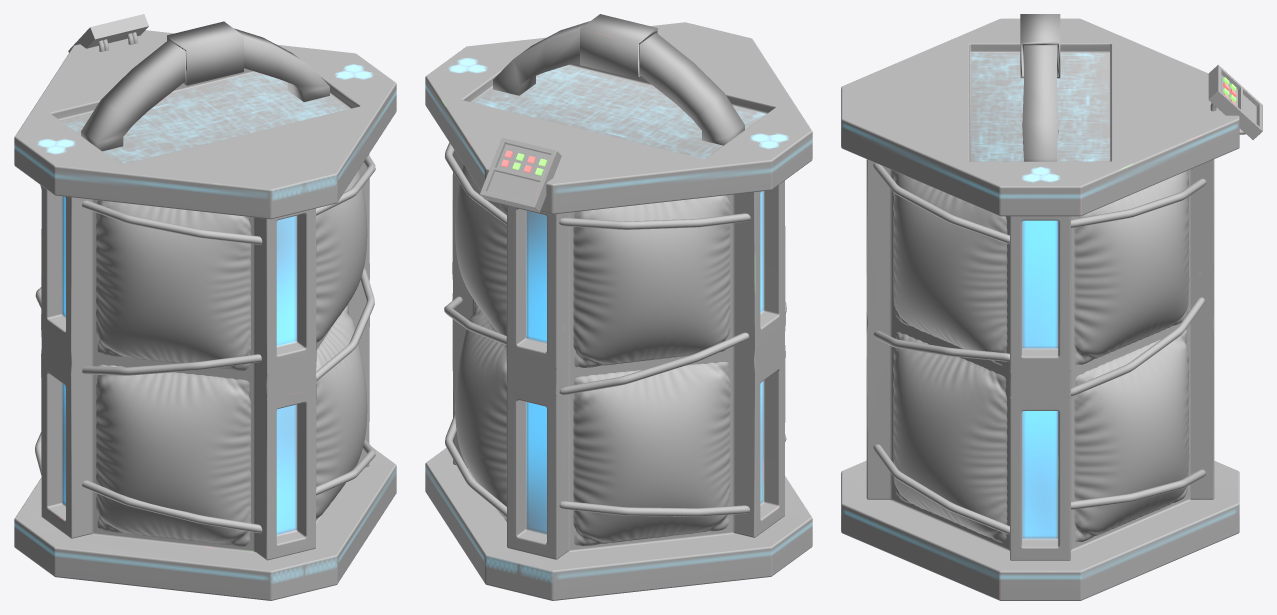
The model's file is Hard-surface box.fbx.
The picture shows the model from 3 angles, left to right: view 1: azimuth 30°, elevation 25°; view 2: azimuth 150°, elevation 25°; view 3: azimuth 270°, elevation 25°; orthographic projection.
Parts seen in each view (by area): view 1: Cube, Cloth_hp.001, Cloth_hp, Cloth_hp.003, Cloth_hp.002, Cube.001, Cube.003, Cube.002, Cube.014, Cube.005, Cube.006, Cube.004; view 2: Cube, Cloth_hp.007, Cloth_hp.006, Cloth_hp.005, Cloth_hp.004, Cube.014, Cube.011, Cube.010, Cube.012, Cube.009, Cube.007, Cube.008; view 3: Cube, Cloth_hp.003, Cloth_hp.005, Cloth_hp.004, Cloth_hp.002, Cube.014, Cube.008, Cube.006, Cube.004, Cube.007, Cube.009, Cube.005.
Part boxes in pixels (left/top/right/bottom): Cube: left=14, top=21, right=396, bottom=600; Cloth_hp.001: left=96, top=364, right=251, bottom=546; Cloth_hp: left=96, top=200, right=250, bottom=370; Cloth_hp.003: left=316, top=305, right=367, bottom=519; Cloth_hp.002: left=316, top=169, right=367, bottom=342; Cube.001: left=82, top=200, right=262, bottom=244; Cube.003: left=82, top=480, right=262, bottom=533; Cube.002: left=82, top=354, right=261, bottom=375; Cube.014: left=68, top=14, right=148, bottom=52; Cube.005: left=316, top=268, right=374, bottom=381; Cube.006: left=316, top=439, right=375, bottom=495; Cube.004: left=316, top=155, right=375, bottom=215; Cube: left=425, top=14, right=812, bottom=600; Cloth_hp.007: left=573, top=362, right=730, bottom=545; Cloth_hp.006: left=573, top=195, right=730, bottom=367; Cloth_hp.005: left=455, top=302, right=506, bottom=519; Cloth_hp.004: left=455, top=164, right=506, bottom=335; Cube.014: left=480, top=137, right=561, bottom=212; Cube.011: left=559, top=332, right=749, bottom=395; Cube.010: left=559, top=213, right=750, bottom=229; Cube.012: left=559, top=501, right=749, bottom=516; Cube.009: left=445, top=413, right=506, bottom=516; Cube.007: left=445, top=142, right=506, bottom=225; Cube.008: left=444, top=296, right=506, bottom=345; Cube: left=841, top=14, right=1239, bottom=600; Cloth_hp.003: left=893, top=332, right=1007, bottom=542; Cloth_hp.005: left=1074, top=330, right=1189, bottom=542; Cloth_hp.004: left=1074, top=170, right=1189, bottom=364; Cloth_hp.002: left=893, top=171, right=1007, bottom=365; Cube.014: left=1208, top=64, right=1262, bottom=139; Cube.008: left=1071, top=297, right=1204, bottom=396; Cube.006: left=873, top=444, right=1009, bottom=534; Cube.004: left=873, top=163, right=1009, bottom=243; Cube.007: left=1071, top=178, right=1206, bottom=227; Cube.009: left=1071, top=469, right=1205, bottom=509; Cube.005: left=873, top=331, right=1009, bottom=361.
Bounding box in the file's own units: 267 × 362 × 282.
